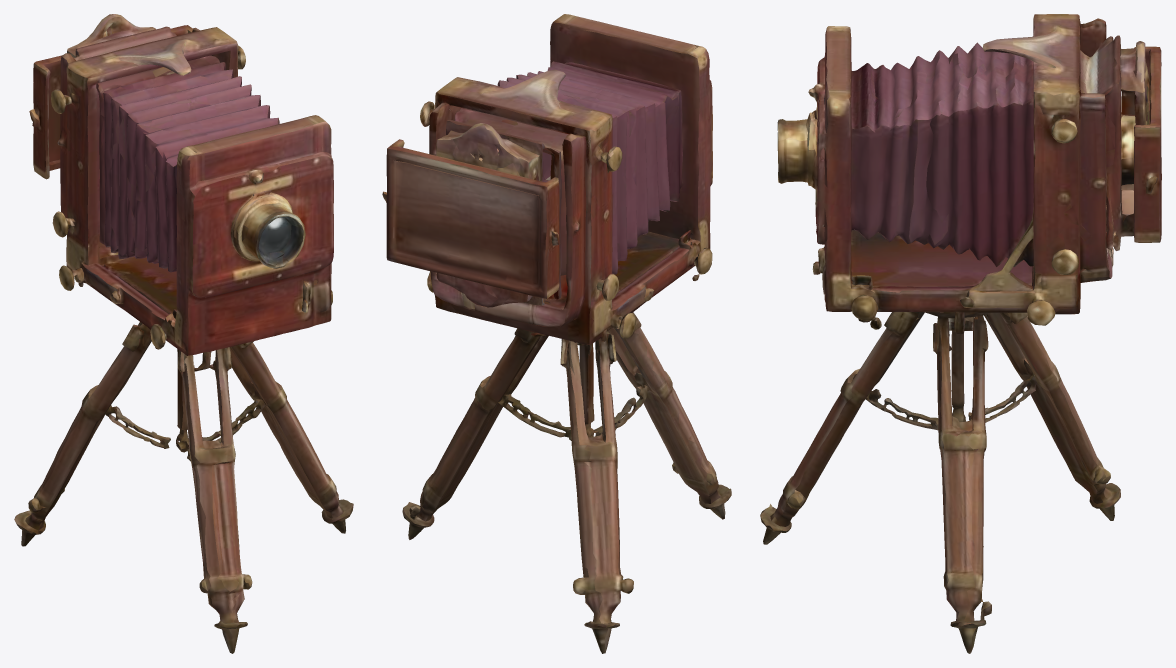
File: camera.glb
3 renders of one model, left to right at view 1: azimuth 30°, elevation 25°; view 2: azimuth 150°, elevation 25°; view 3: azimuth 270°, elevation 25°, orthographic. The views are drawn at different scales.
Parts seen in each view (by area): view 1: geometry_0; view 2: geometry_0; view 3: geometry_0.
Boxes of the visible parts, x1,y1,x2,y2 form: geometry_0: [14, 14, 353, 653]; geometry_0: [382, 14, 731, 653]; geometry_0: [760, 14, 1161, 653].
Size of the model in its own units: 0.5409 by 0.95 by 0.6505.
Materials: 1 (1 with a texture image).
